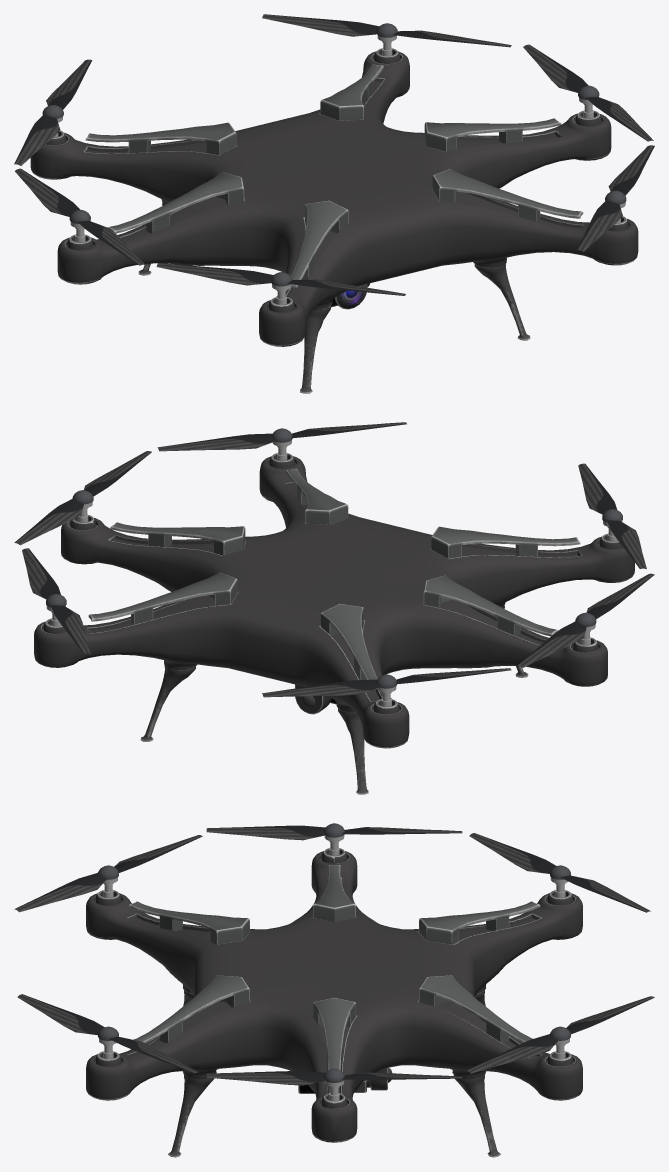
The model's file is Hexacopter.gltf.
3 renders of one model, top to bottom at view 1: azimuth 30°, elevation 25°; view 2: azimuth 150°, elevation 25°; view 3: azimuth 270°, elevation 25°, orthographic.
Visible parts, largest first — view 1: Hexacopter_Body, BR_Propellor_Hexa, FL_Propeller_Hexa, ML_Propeller_Hexa, MR_Propeller_Hexa, FR_Propeller_Hexa, BL_Propeller_Hexa; view 2: Hexacopter_Body, FR_Propeller_Hexa, BL_Propeller_Hexa, MR_Propeller_Hexa, ML_Propeller_Hexa, FL_Propeller_Hexa, BR_Propellor_Hexa, Camera_Mount_Hexa; view 3: Hexacopter_Body, ML_Propeller_Hexa, MR_Propeller_Hexa, BL_Propeller_Hexa, FL_Propeller_Hexa, BR_Propellor_Hexa, FR_Propeller_Hexa.
Boxes of the visible parts, bbox=[...] form: Hexacopter_Body: bbox=[30, 48, 638, 393]; BR_Propellor_Hexa: bbox=[262, 14, 511, 55]; FL_Propeller_Hexa: bbox=[156, 263, 405, 304]; ML_Propeller_Hexa: bbox=[15, 168, 145, 265]; MR_Propeller_Hexa: bbox=[523, 44, 653, 141]; FR_Propeller_Hexa: bbox=[577, 145, 654, 251]; BL_Propeller_Hexa: bbox=[14, 59, 92, 165]; Hexacopter_Body: bbox=[34, 453, 634, 794]; FR_Propeller_Hexa: bbox=[157, 422, 406, 460]; BL_Propeller_Hexa: bbox=[262, 668, 511, 706]; MR_Propeller_Hexa: bbox=[14, 451, 151, 545]; ML_Propeller_Hexa: bbox=[517, 573, 654, 667]; FL_Propeller_Hexa: bbox=[578, 463, 646, 569]; BR_Propellor_Hexa: bbox=[22, 548, 90, 653]; Camera_Mount_Hexa: bbox=[295, 684, 331, 714]; Hexacopter_Body: bbox=[86, 848, 582, 1157]; ML_Propeller_Hexa: bbox=[206, 823, 462, 855]; MR_Propeller_Hexa: bbox=[206, 1068, 462, 1100]; BL_Propeller_Hexa: bbox=[469, 833, 650, 912]; FL_Propeller_Hexa: bbox=[14, 835, 202, 912]; BR_Propellor_Hexa: bbox=[466, 996, 654, 1073]; FR_Propeller_Hexa: bbox=[17, 994, 198, 1073].
Bounding box in the file's own units: 1.81 × 0.4955 × 1.85.
Materials: 2 (2 with a texture image).
